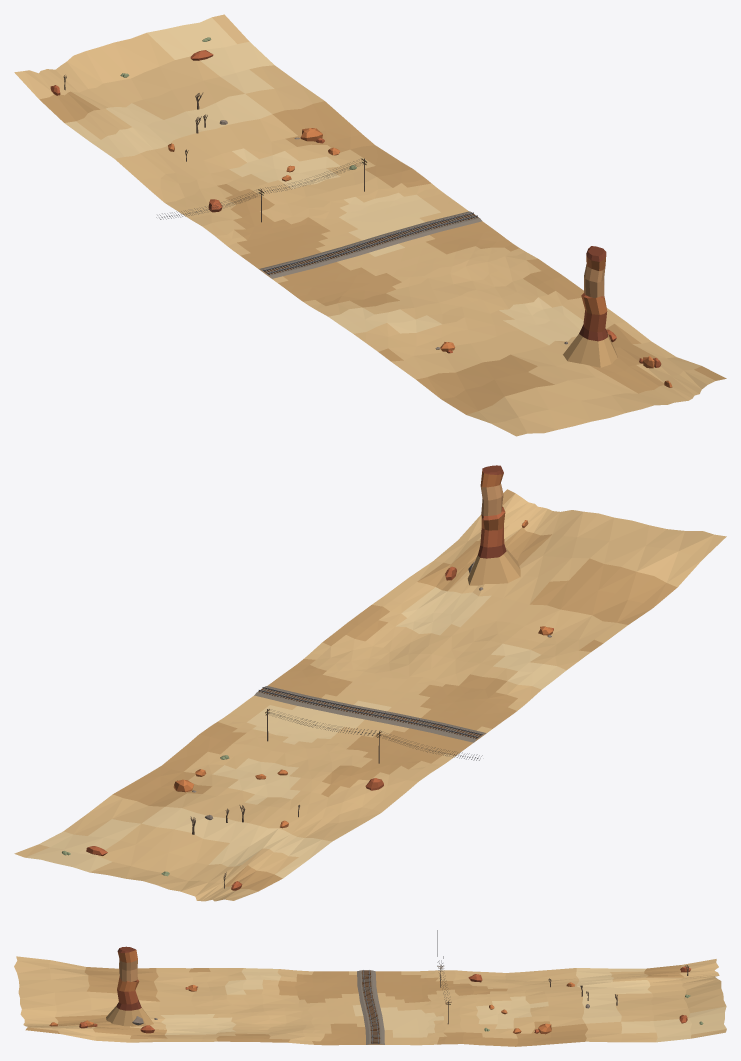
Rendered from SM_FG_Chunk_SBendL_A.fbx.
The picture shows the model from 3 angles, top to bottom: view 1: azimuth 30°, elevation 25°; view 2: azimuth 150°, elevation 25°; view 3: azimuth 270°, elevation 25°; orthographic projection. The views are drawn at different scales.
Visible parts, largest first — view 1: FG_Chunk_SBendL_A_Ground, FG_Chunk_SBendL_A_SceneryMid, FG_Chunk_SBendL_A_Track, FG_Chunk_SBendL_A_SceneryNear; view 2: FG_Chunk_SBendL_A_Ground, FG_Chunk_SBendL_A_SceneryMid, FG_Chunk_SBendL_A_Track, FG_Chunk_SBendL_A_SceneryNear; view 3: FG_Chunk_SBendL_A_Ground, FG_Chunk_SBendL_A_SceneryMid, FG_Chunk_SBendL_A_Track, FG_Chunk_SBendL_A_SceneryNear.
Part boxes in pixels (x1,y1,x2,y2): FG_Chunk_SBendL_A_Ground: (14,14,726,436); FG_Chunk_SBendL_A_SceneryMid: (50,50,617,367); FG_Chunk_SBendL_A_Track: (259,211,481,278); FG_Chunk_SBendL_A_SceneryNear: (63,37,672,387); FG_Chunk_SBendL_A_Ground: (14,489,726,901); FG_Chunk_SBendL_A_SceneryMid: (86,465,520,890); FG_Chunk_SBendL_A_Track: (254,686,486,742); FG_Chunk_SBendL_A_SceneryNear: (62,520,553,888); FG_Chunk_SBendL_A_Ground: (14,956,726,1046); FG_Chunk_SBendL_A_SceneryMid: (106,946,690,1026); FG_Chunk_SBendL_A_Track: (357,970,384,1044); FG_Chunk_SBendL_A_SceneryNear: (49,930,703,1034).
Size of the model in its own units: 6240 by 20358 by 2460.
